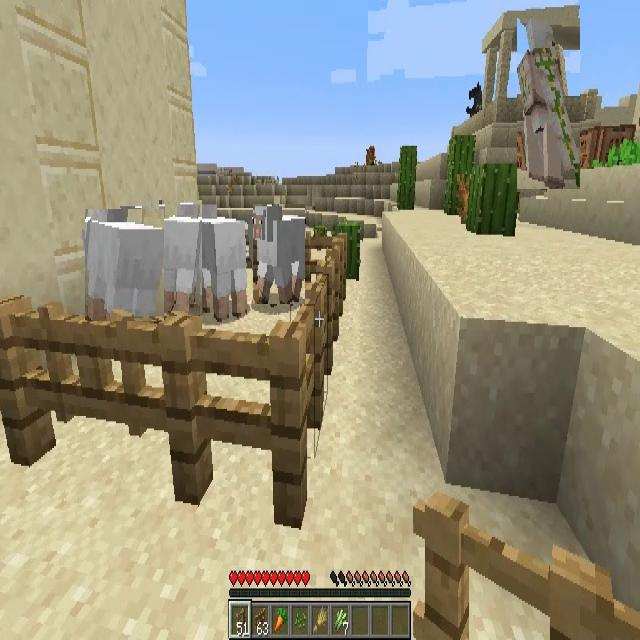people: (517, 18, 580, 189)
sheep: (85, 209, 164, 321), (194, 204, 246, 314), (253, 204, 306, 304), (159, 200, 202, 316)
